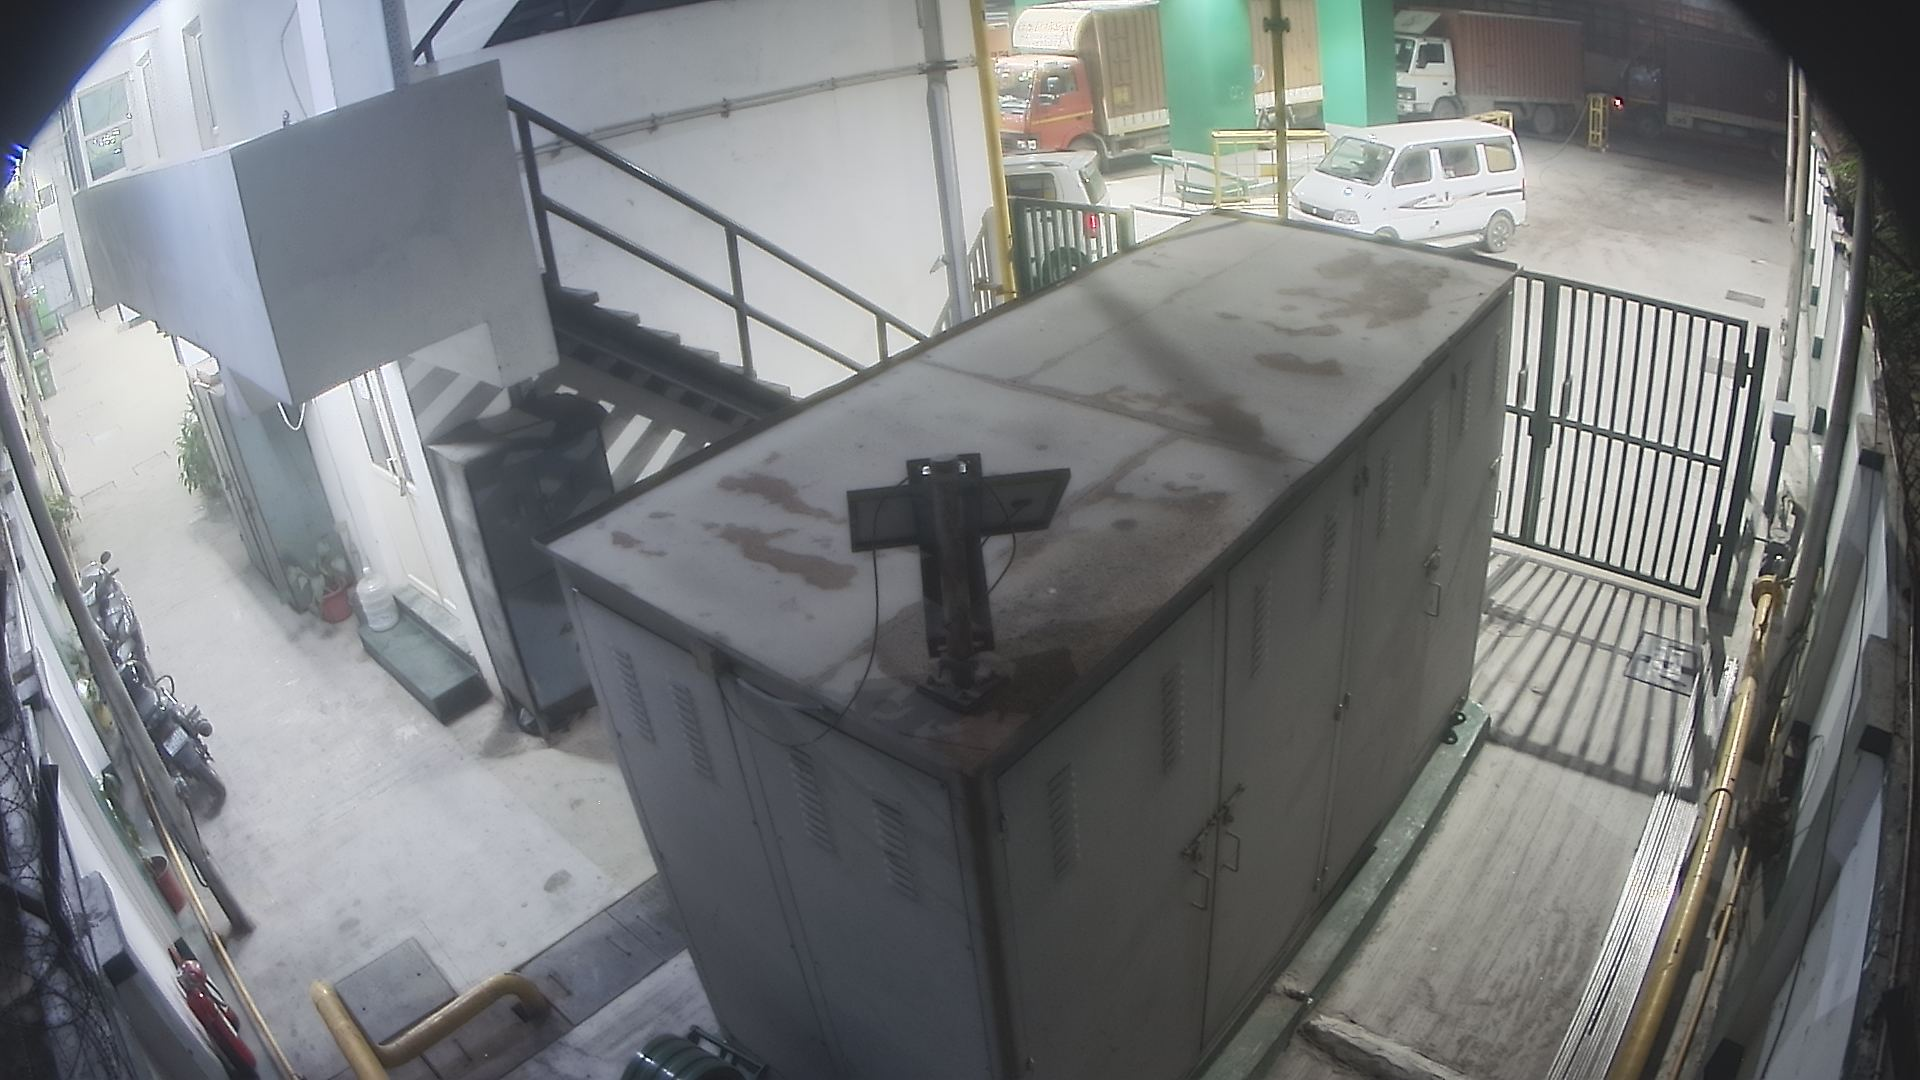Bike: (63, 591, 235, 848), (49, 524, 157, 732)
Car: (1286, 100, 1545, 266), (986, 133, 1126, 316), (154, 297, 235, 400), (98, 258, 160, 356)
HMV: (967, 1, 1342, 206), (1592, 1, 1818, 182), (1367, 0, 1611, 154)
